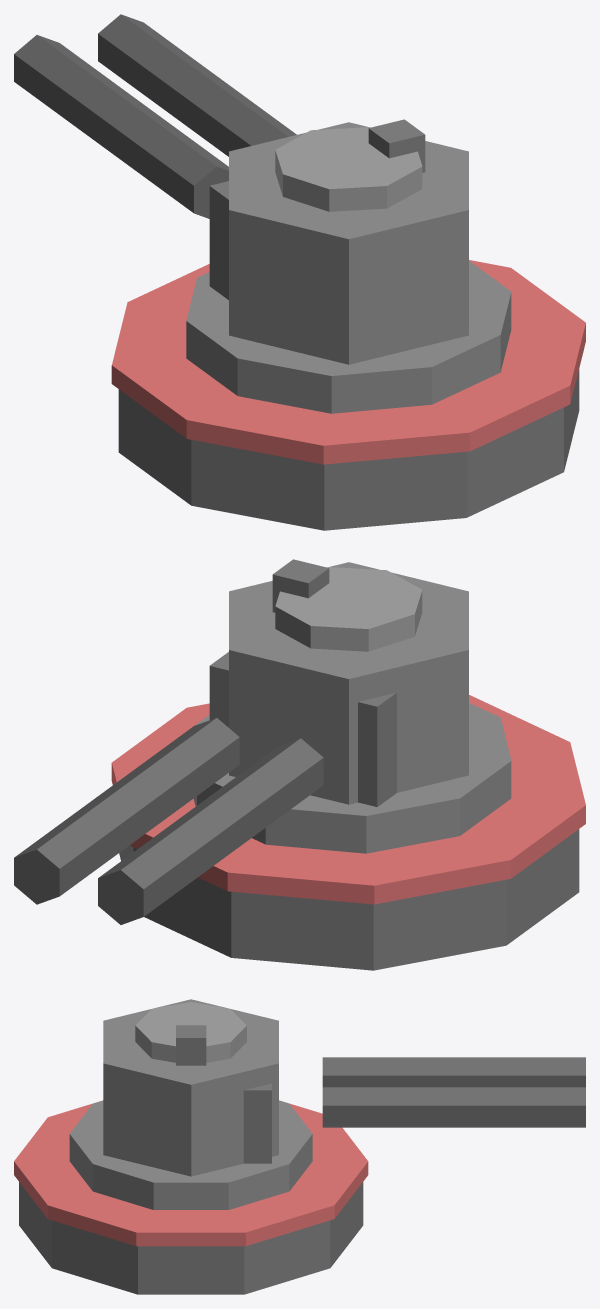
Rendered from building_turret.glb.
3 views of the same model, one above another, from view 1: azimuth 30°, elevation 25°; view 2: azimuth 150°, elevation 25°; view 3: azimuth 270°, elevation 25° (orthographic). The views are drawn at different scales.
Visible parts, largest first — view 1: building_turret; view 2: building_turret; view 3: building_turret.
Boxes of the visible parts, x1,y1,x2,y2 form: building_turret: (14, 14, 585, 530); building_turret: (14, 559, 585, 970); building_turret: (14, 999, 585, 1294).
Size of the model in its own units: 0.3329 by 0.23 by 0.565.
